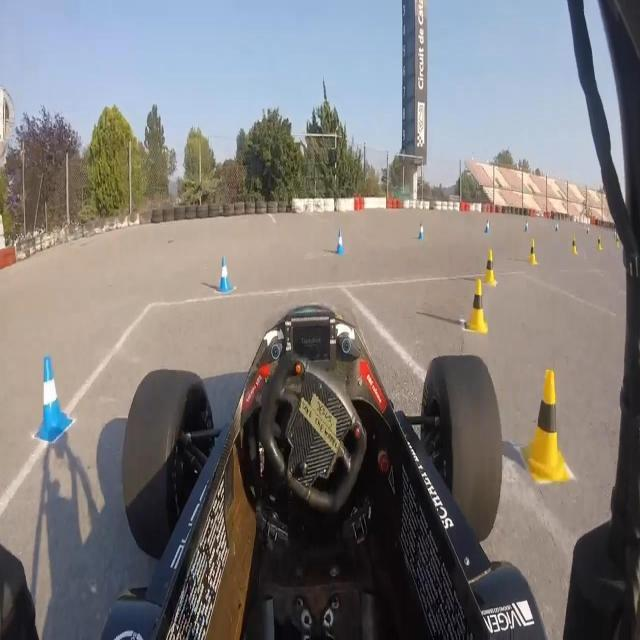blue_cone: (32, 351, 74, 448), (216, 252, 234, 294), (335, 227, 345, 255), (418, 222, 426, 242), (485, 217, 490, 233), (524, 218, 528, 232)
yellow_cone: (466, 279, 488, 336), (483, 248, 497, 286), (529, 237, 538, 265), (570, 235, 577, 254), (597, 236, 603, 250), (615, 238, 620, 248)
